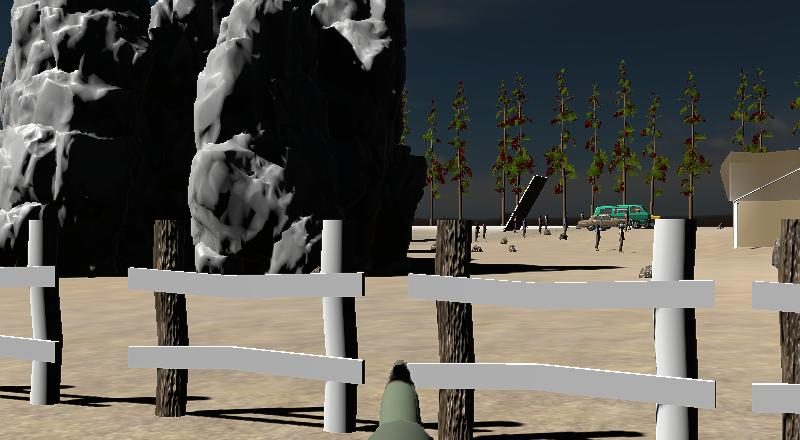Human: (617, 225, 626, 253), (595, 226, 602, 253)
car: (590, 205, 650, 227), (586, 214, 632, 230)
